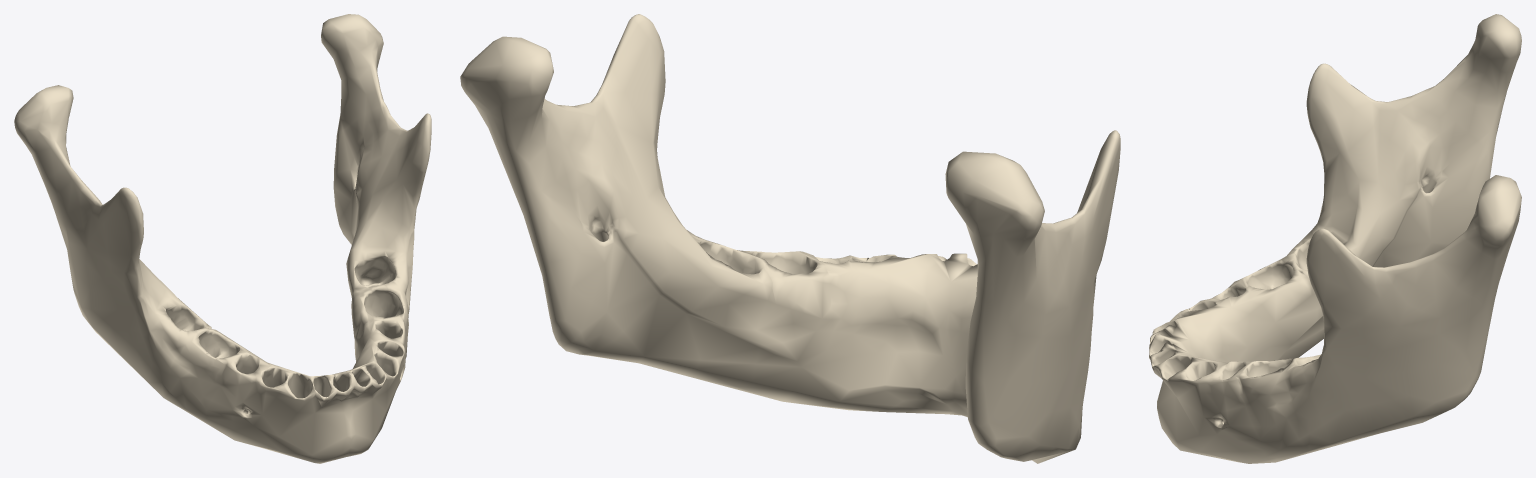
File: mandible.glb
The picture shows the model from 3 angles, left to right: view 1: azimuth 30°, elevation 25°; view 2: azimuth 150°, elevation 25°; view 3: azimuth 270°, elevation 25°; orthographic projection. The views are drawn at different scales.
Parts seen in each view (by area): view 1: Mandible; view 2: Mandible; view 3: Mandible.
Part boxes in pixels (x1,y1,x2,y2): Mandible: [14, 14, 431, 463]; Mandible: [460, 14, 1120, 463]; Mandible: [1149, 14, 1521, 463].
Size of the model in its own units: 0.1033 by 0.0824 by 0.0819.
